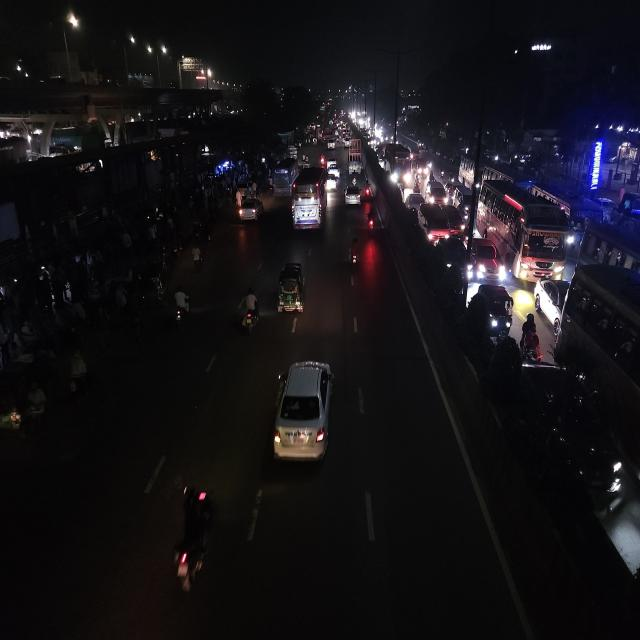bus: (563, 264, 640, 520), (476, 179, 574, 279), (290, 164, 329, 237), (380, 143, 412, 186), (268, 157, 298, 196)
car: (514, 356, 626, 519), (269, 356, 339, 474), (532, 275, 570, 331), (436, 235, 473, 282), (469, 237, 505, 283), (417, 204, 449, 246), (236, 193, 264, 225), (442, 205, 468, 236), (425, 179, 447, 207), (343, 183, 362, 209), (406, 191, 424, 214), (326, 157, 339, 178), (327, 138, 337, 150)
cng: (273, 258, 309, 320), (480, 283, 516, 344)
motorcycle: (167, 480, 219, 597), (236, 287, 262, 336), (519, 317, 544, 362), (170, 287, 193, 329), (346, 234, 362, 275), (365, 202, 379, 235), (364, 180, 374, 201)
pedestrian: (64, 347, 90, 402), (189, 242, 205, 274)
pickup_van: (347, 159, 364, 176)
